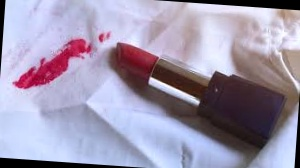lipstick: (16, 43, 92, 92), (61, 31, 102, 69), (90, 28, 113, 45)
